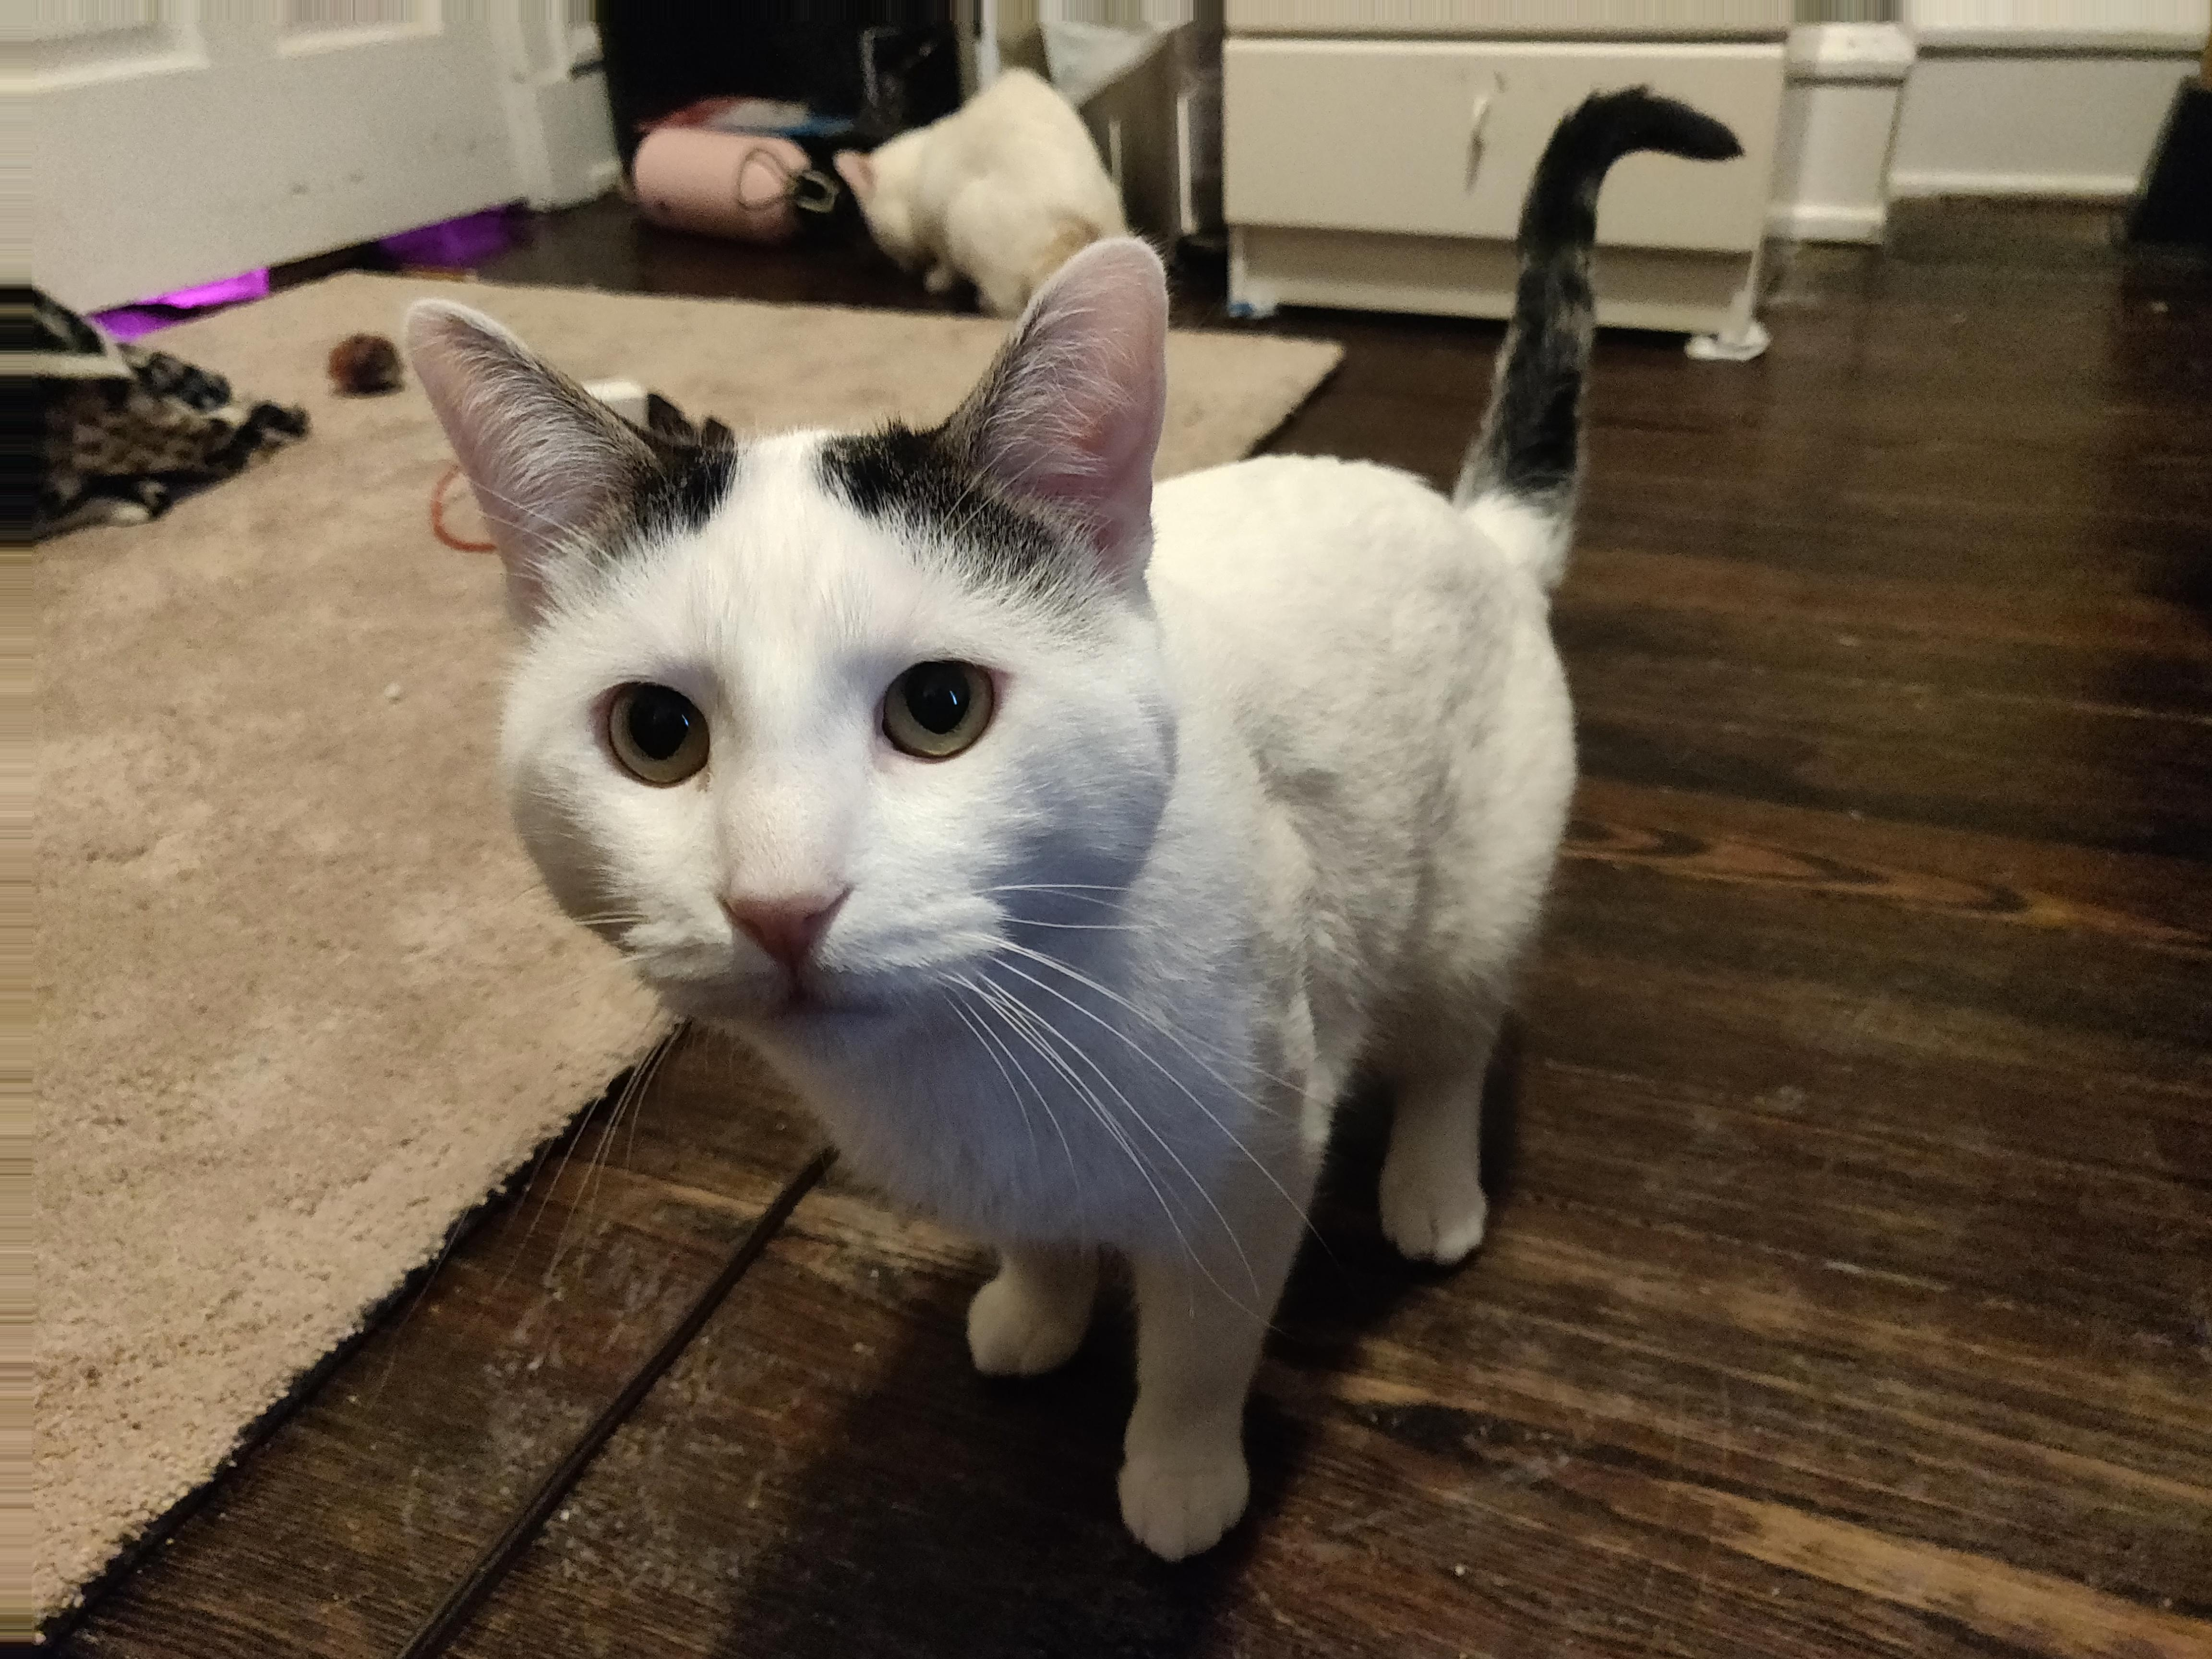cat: (409, 238, 1570, 1547)
